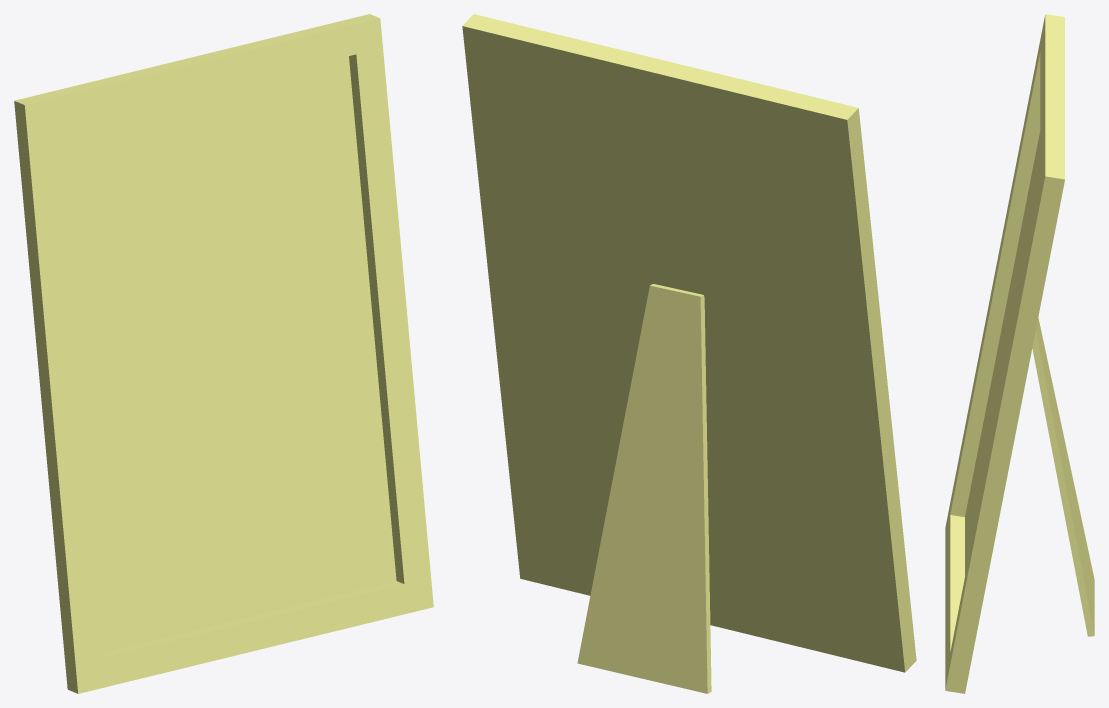
Rendered from PictureFrame_01.fbx.
3 renders of one model, left to right at view 1: azimuth 30°, elevation 25°; view 2: azimuth 150°, elevation 25°; view 3: azimuth 270°, elevation 25°, orthographic. The views are drawn at different scales.
Visible parts, largest first — view 1: PictureFrame_01; view 2: PictureFrame_01; view 3: PictureFrame_01.
Boxes of the visible parts, x1,y1,x2,y2 form: PictureFrame_01: (14,14,433,693); PictureFrame_01: (462,14,916,693); PictureFrame_01: (945,14,1094,693).
Bounding box in the file's own units: 20 × 29.73 × 7.78.
